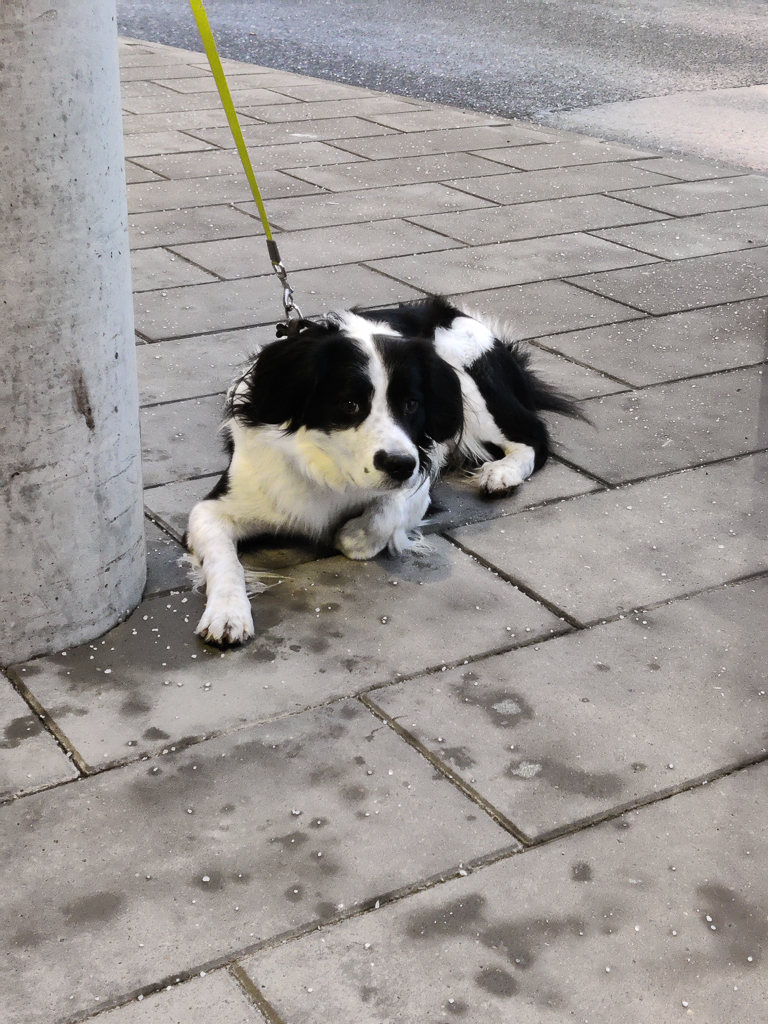Dog: (149, 281, 623, 673)
